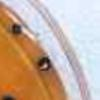black: (36, 53, 53, 74), (9, 22, 23, 36), (0, 93, 22, 100)
